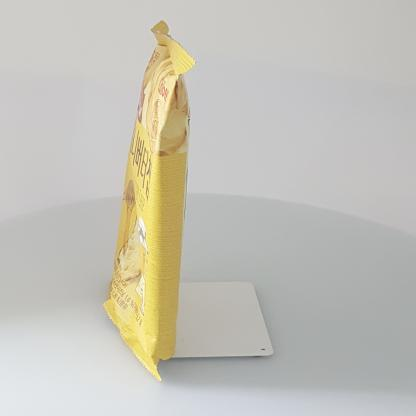Plastic Packaging: (84, 13, 218, 393)
